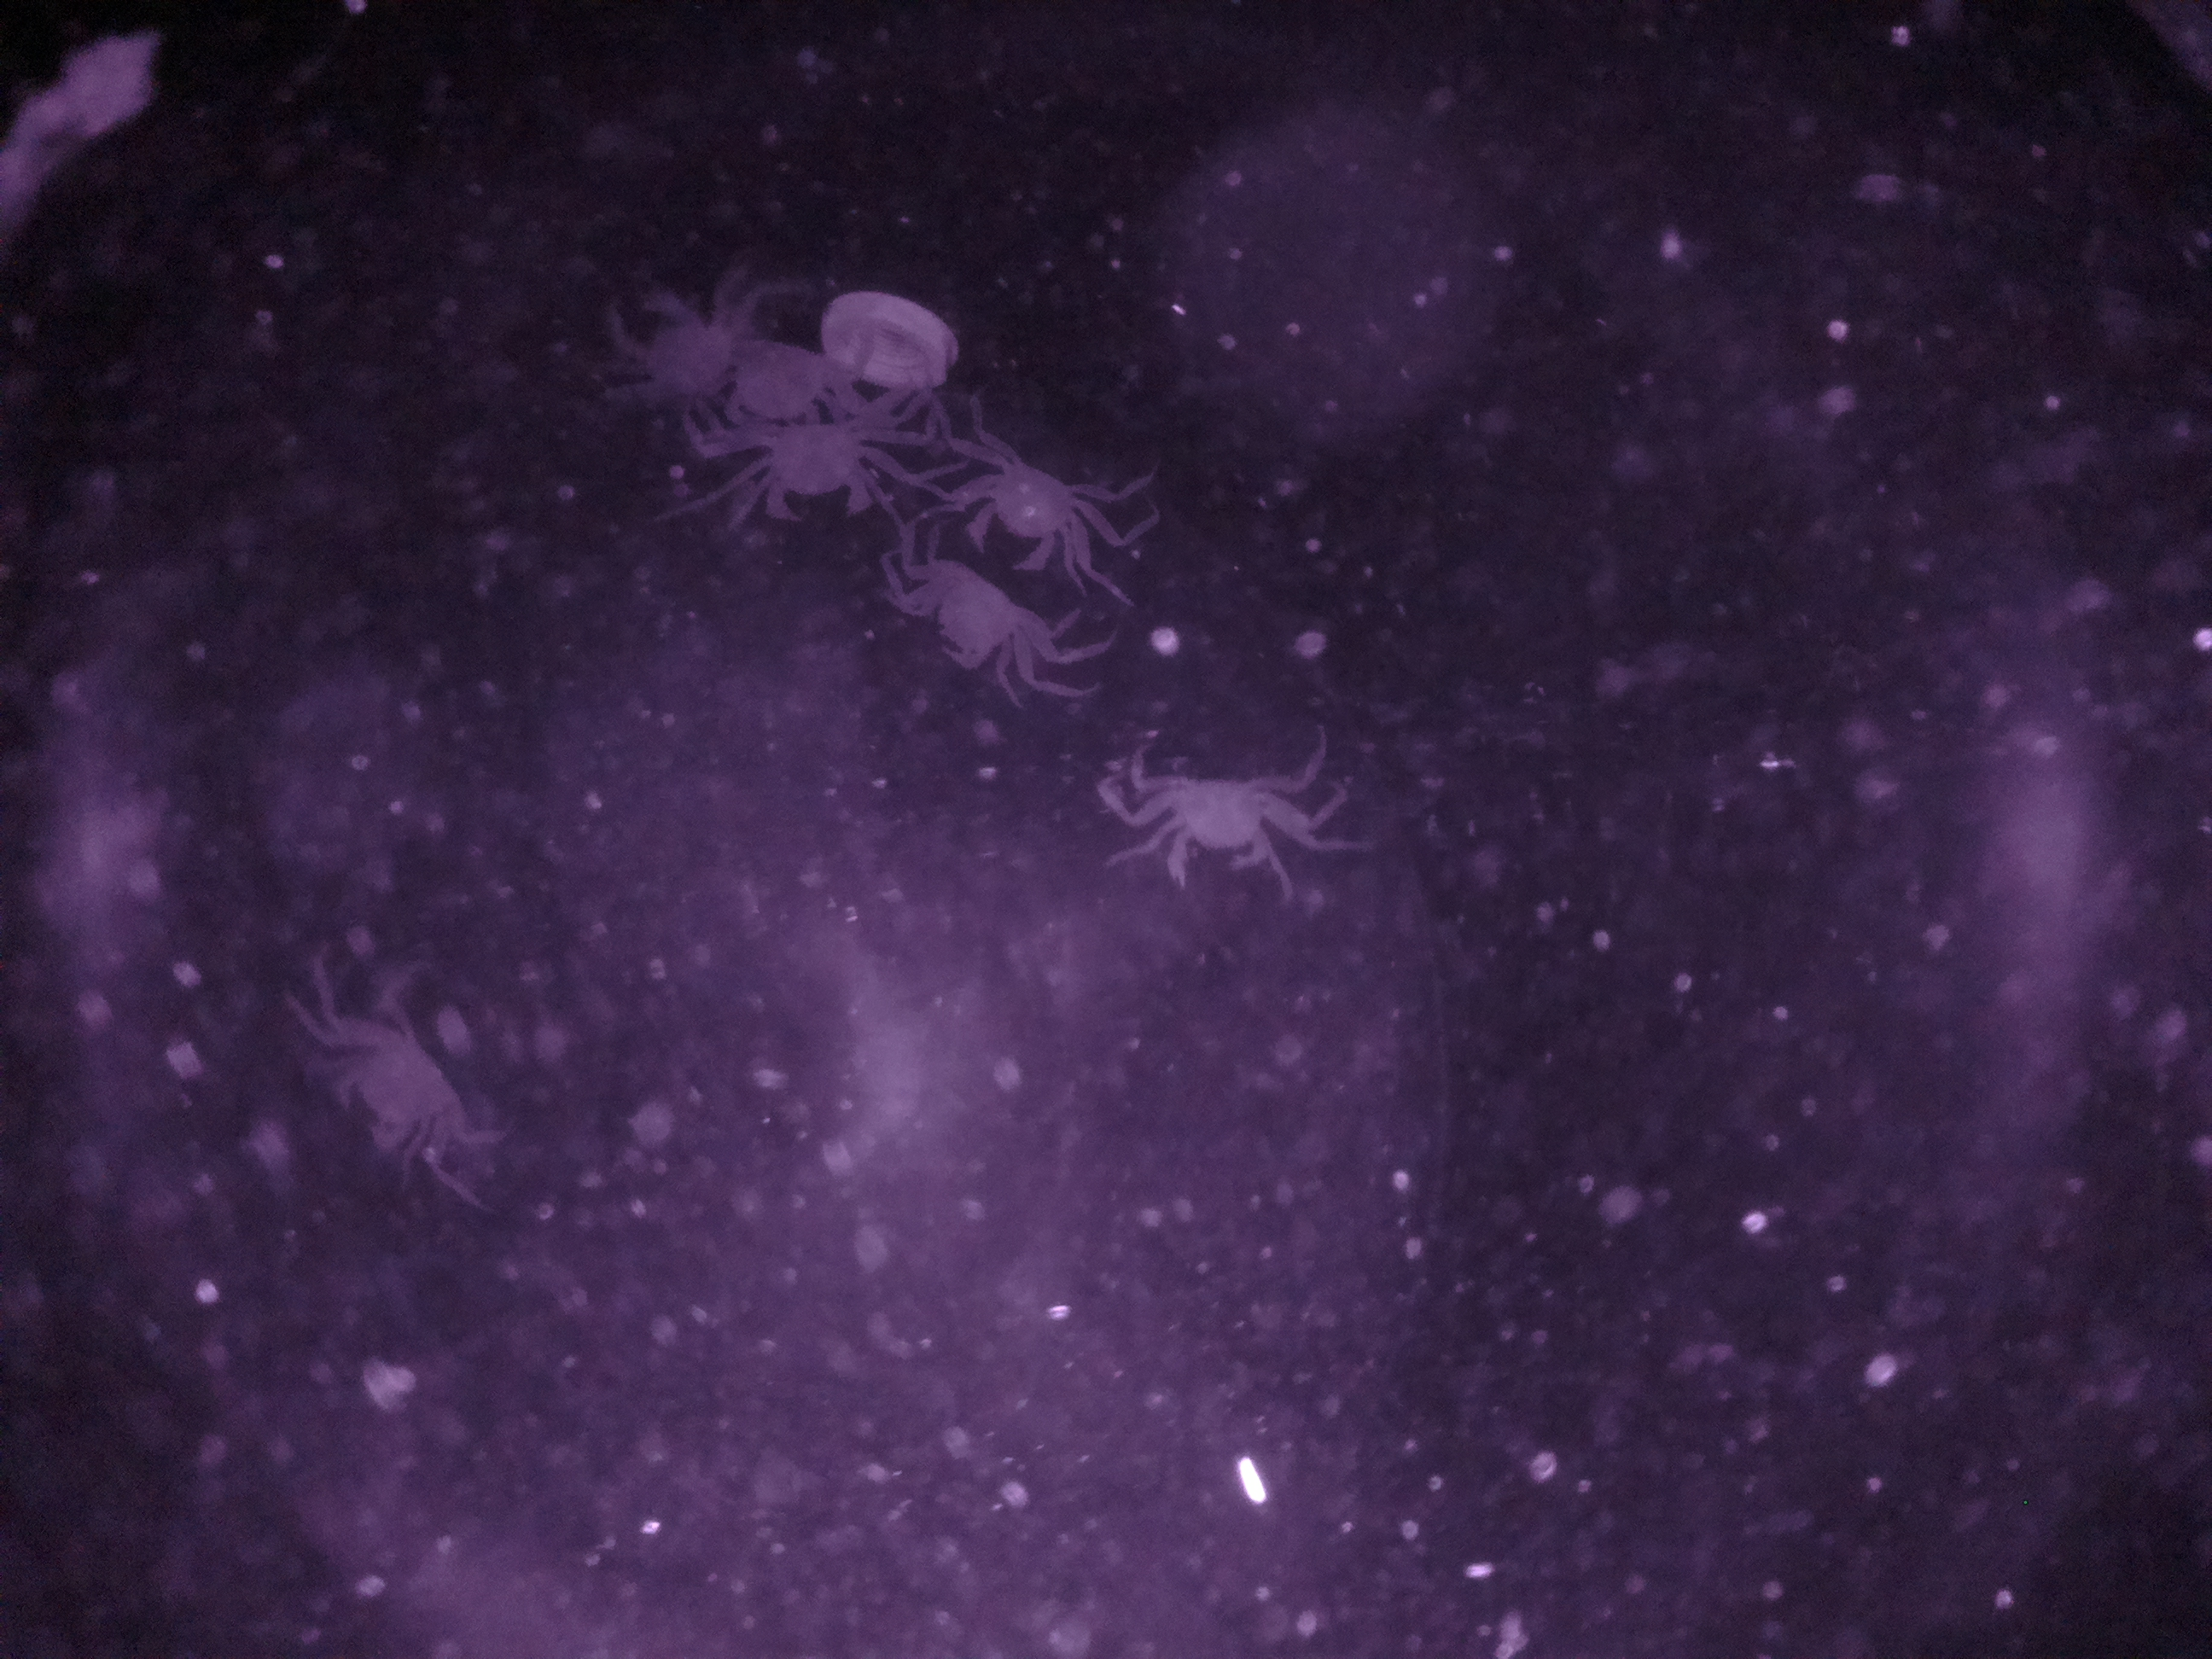Crab: (1103, 742, 1341, 896), (941, 439, 1130, 573), (740, 406, 892, 538)
